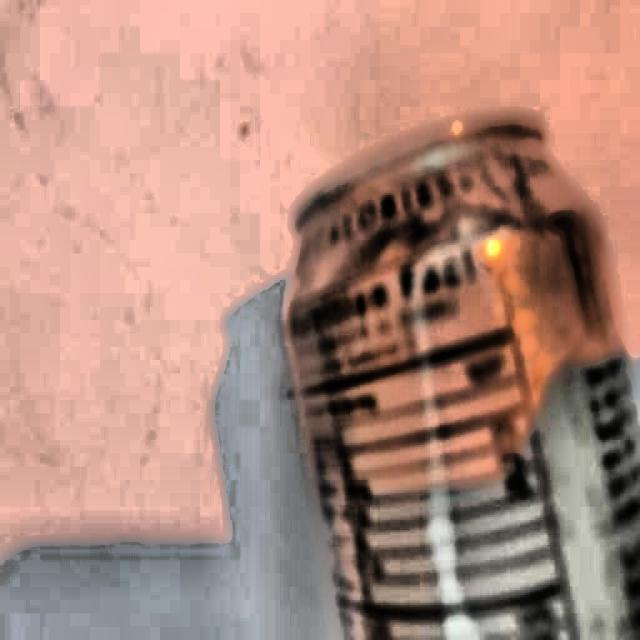metal: (283, 118, 640, 640)
